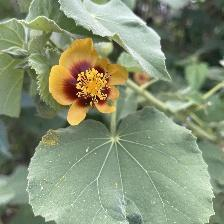indian mallow: (49, 38, 131, 125)
